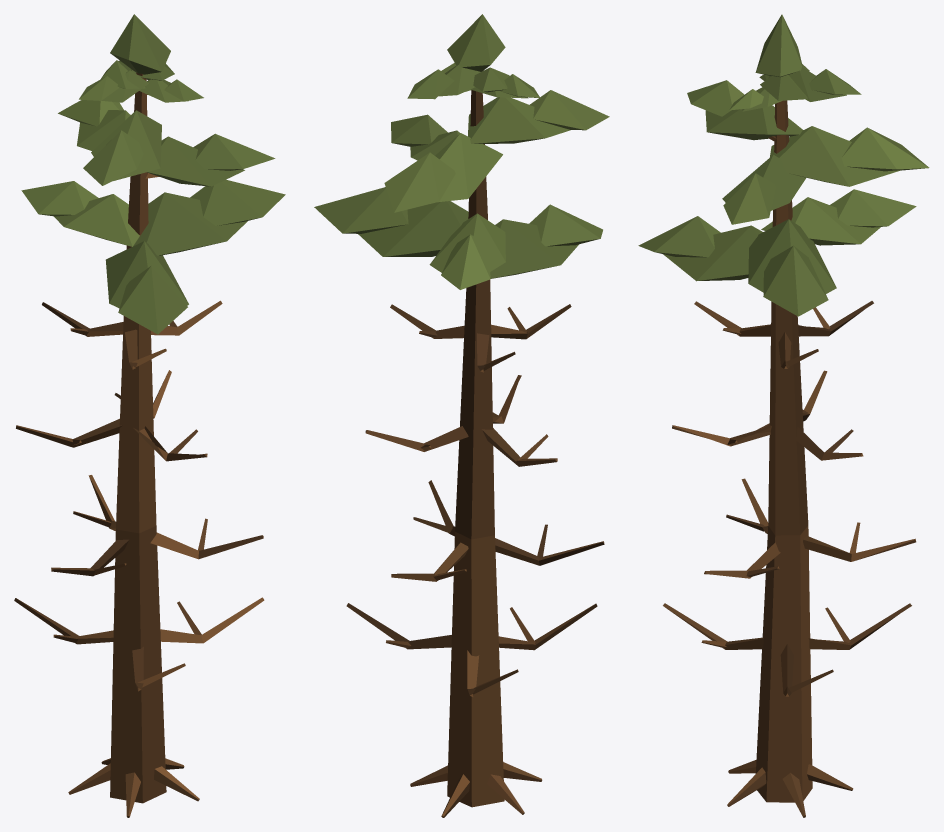
The model's file is pine-07-far.glb.
3 renders of one model, left to right at view 1: azimuth 30°, elevation 25°; view 2: azimuth 150°, elevation 25°; view 3: azimuth 270°, elevation 25°, orthographic.
Parts seen in each view (by area): view 1: pine-07-far; view 2: pine-07-far; view 3: pine-07-far.
Boxes of the visible parts, x1,y1,x2,y2 form: pine-07-far: [14, 14, 285, 817]; pine-07-far: [314, 14, 609, 817]; pine-07-far: [638, 14, 929, 817].
Size of the model in its own units: 3.17 by 9 by 3.06.
